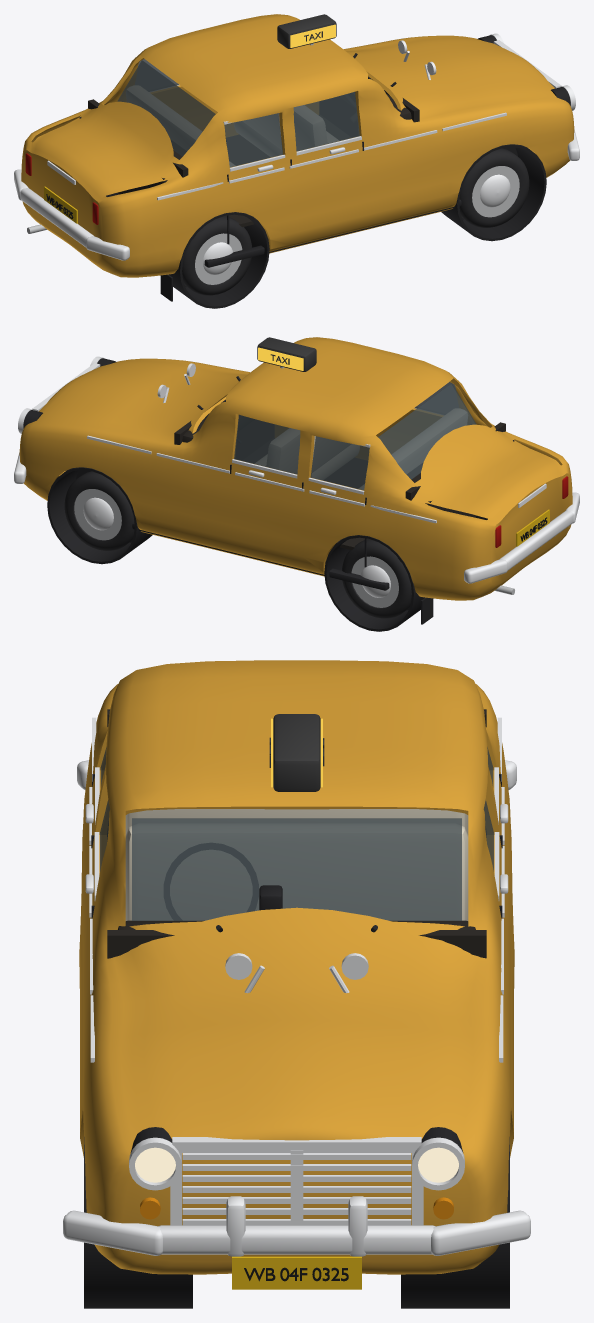
File: AMBASSADOR_TAXI.glb
The picture shows the model from 3 angles, top to bottom: view 1: azimuth 30°, elevation 25°; view 2: azimuth 150°, elevation 25°; view 3: azimuth 270°, elevation 25°; orthographic projection. The views are drawn at different scales.
Parts seen in each view (by area): view 1: AmbassadorTaxi; view 2: AmbassadorTaxi; view 3: AmbassadorTaxi.
Boxes of the visible parts, x1,y1,x2,y2 form: AmbassadorTaxi: (14,14,579,308); AmbassadorTaxi: (14,337,579,631); AmbassadorTaxi: (63,660,530,1308).
Size of the model in its own units: 4.33 by 1.8 by 1.8.
